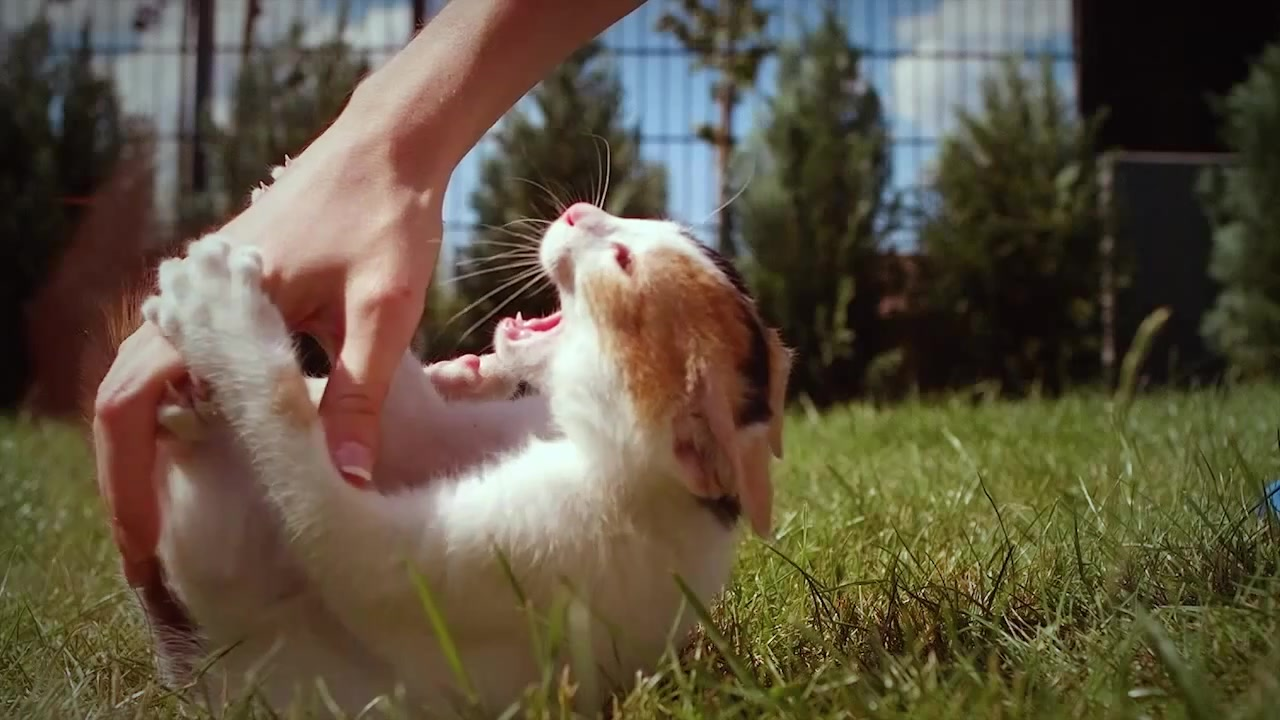cat: (82, 157, 795, 718)
